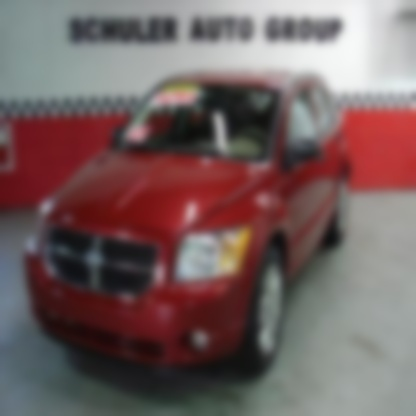Vehicle: (23, 67, 355, 387)
